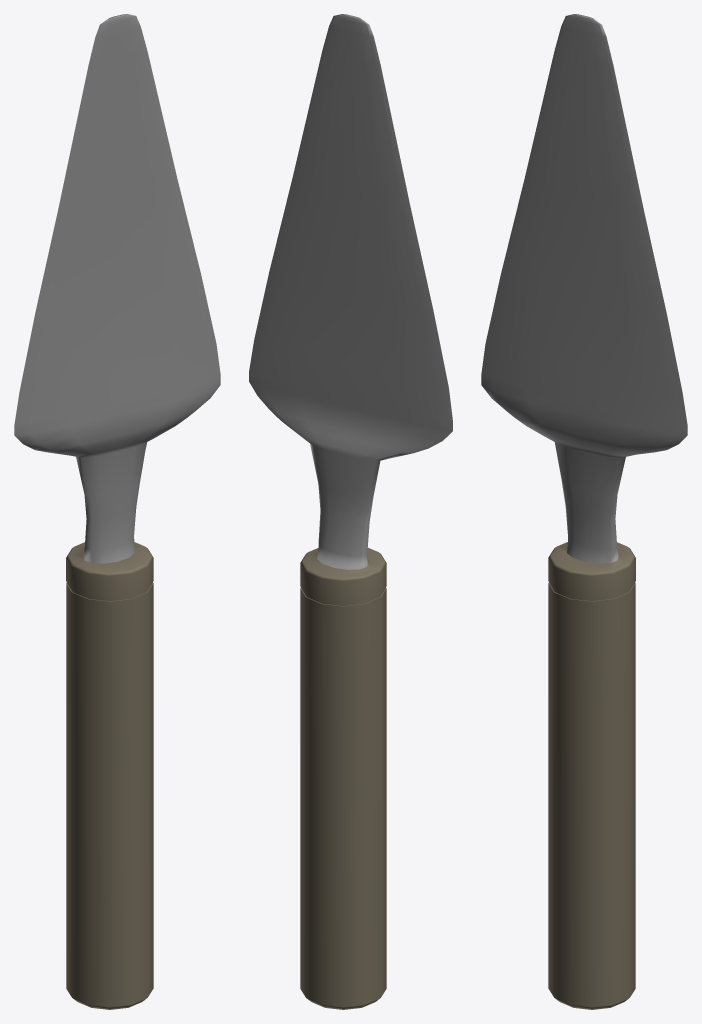
3 renders of one model, left to right at view 1: azimuth 30°, elevation 25°; view 2: azimuth 150°, elevation 25°; view 3: azimuth 330°, elevation 25°, orthographic.
Parts seen in each view (by area): view 1: pCylinder3; view 2: pCylinder3; view 3: pCylinder3.
Part boxes in pixels (x1,y1,x2,y2): pCylinder3: (14, 14, 220, 1009); pCylinder3: (249, 14, 452, 1009); pCylinder3: (481, 14, 687, 1009).
Size of the model in its own units: 1.32 by 6 by 0.4841.
